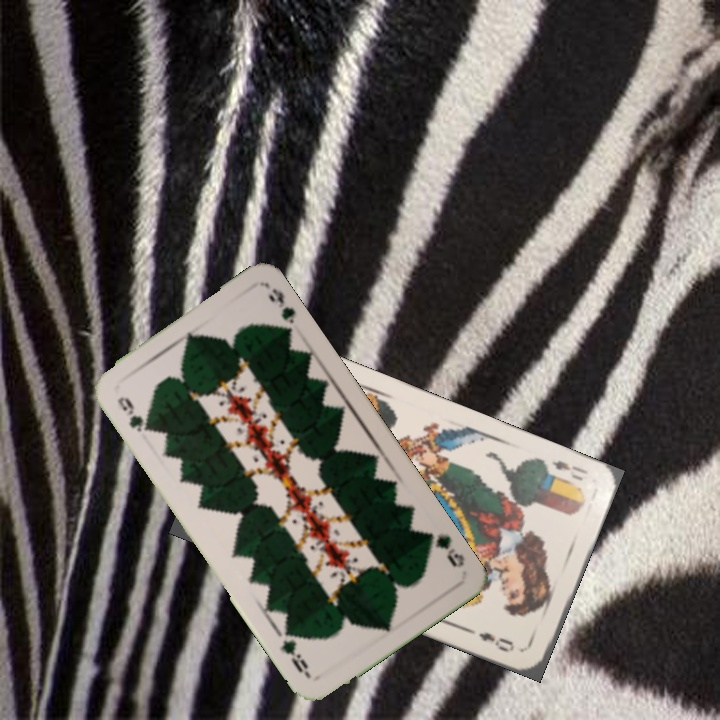EO: (547, 456, 591, 484)
G9: (419, 528, 468, 571), (113, 392, 154, 435)
